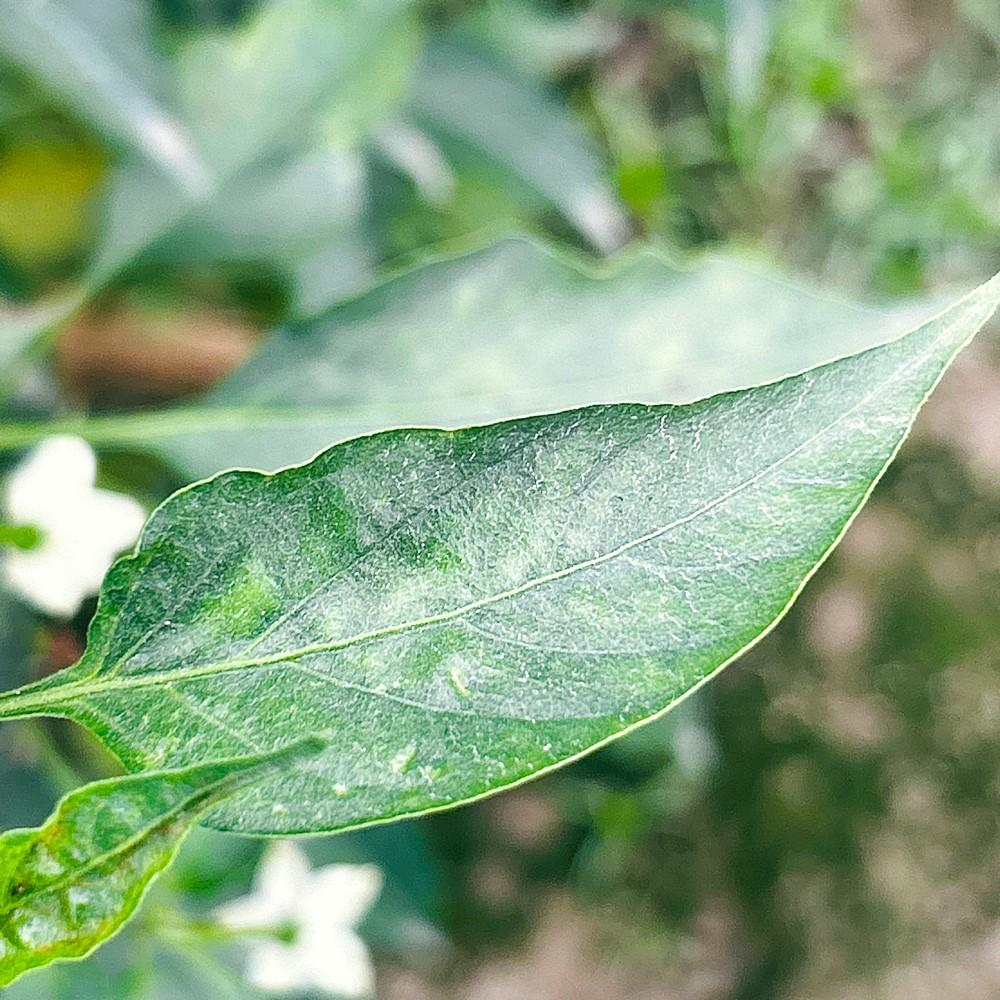Daun Cabai Sehat: (1, 249, 998, 987)
